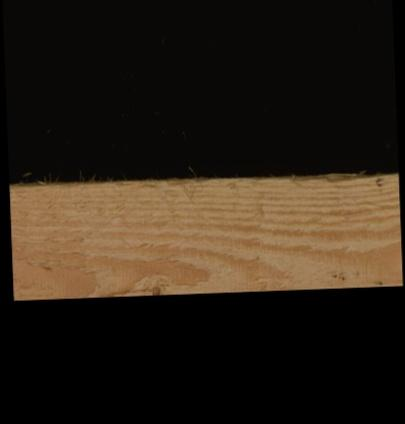edge_knot: (148, 283, 160, 294)
